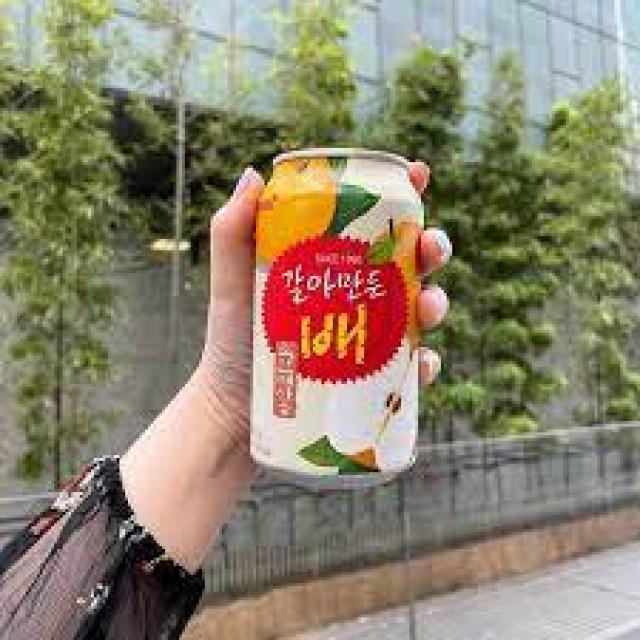Cans: (245, 142, 441, 495)
